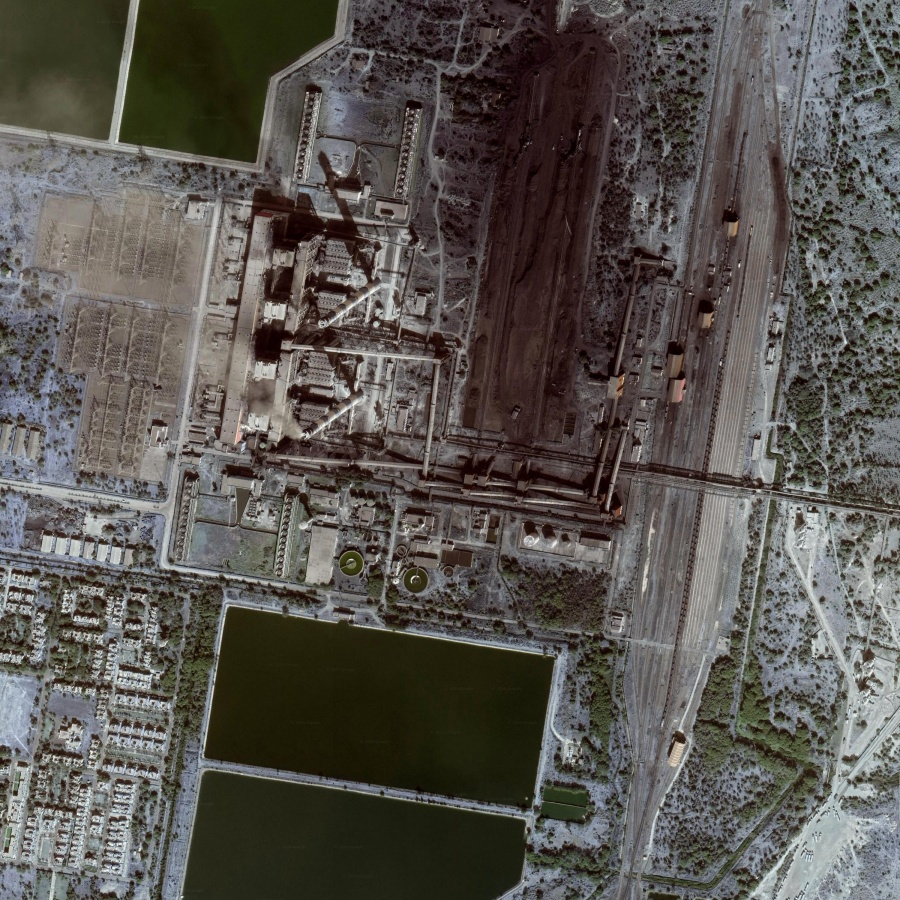PowerPlant: (230, 4, 673, 512)
